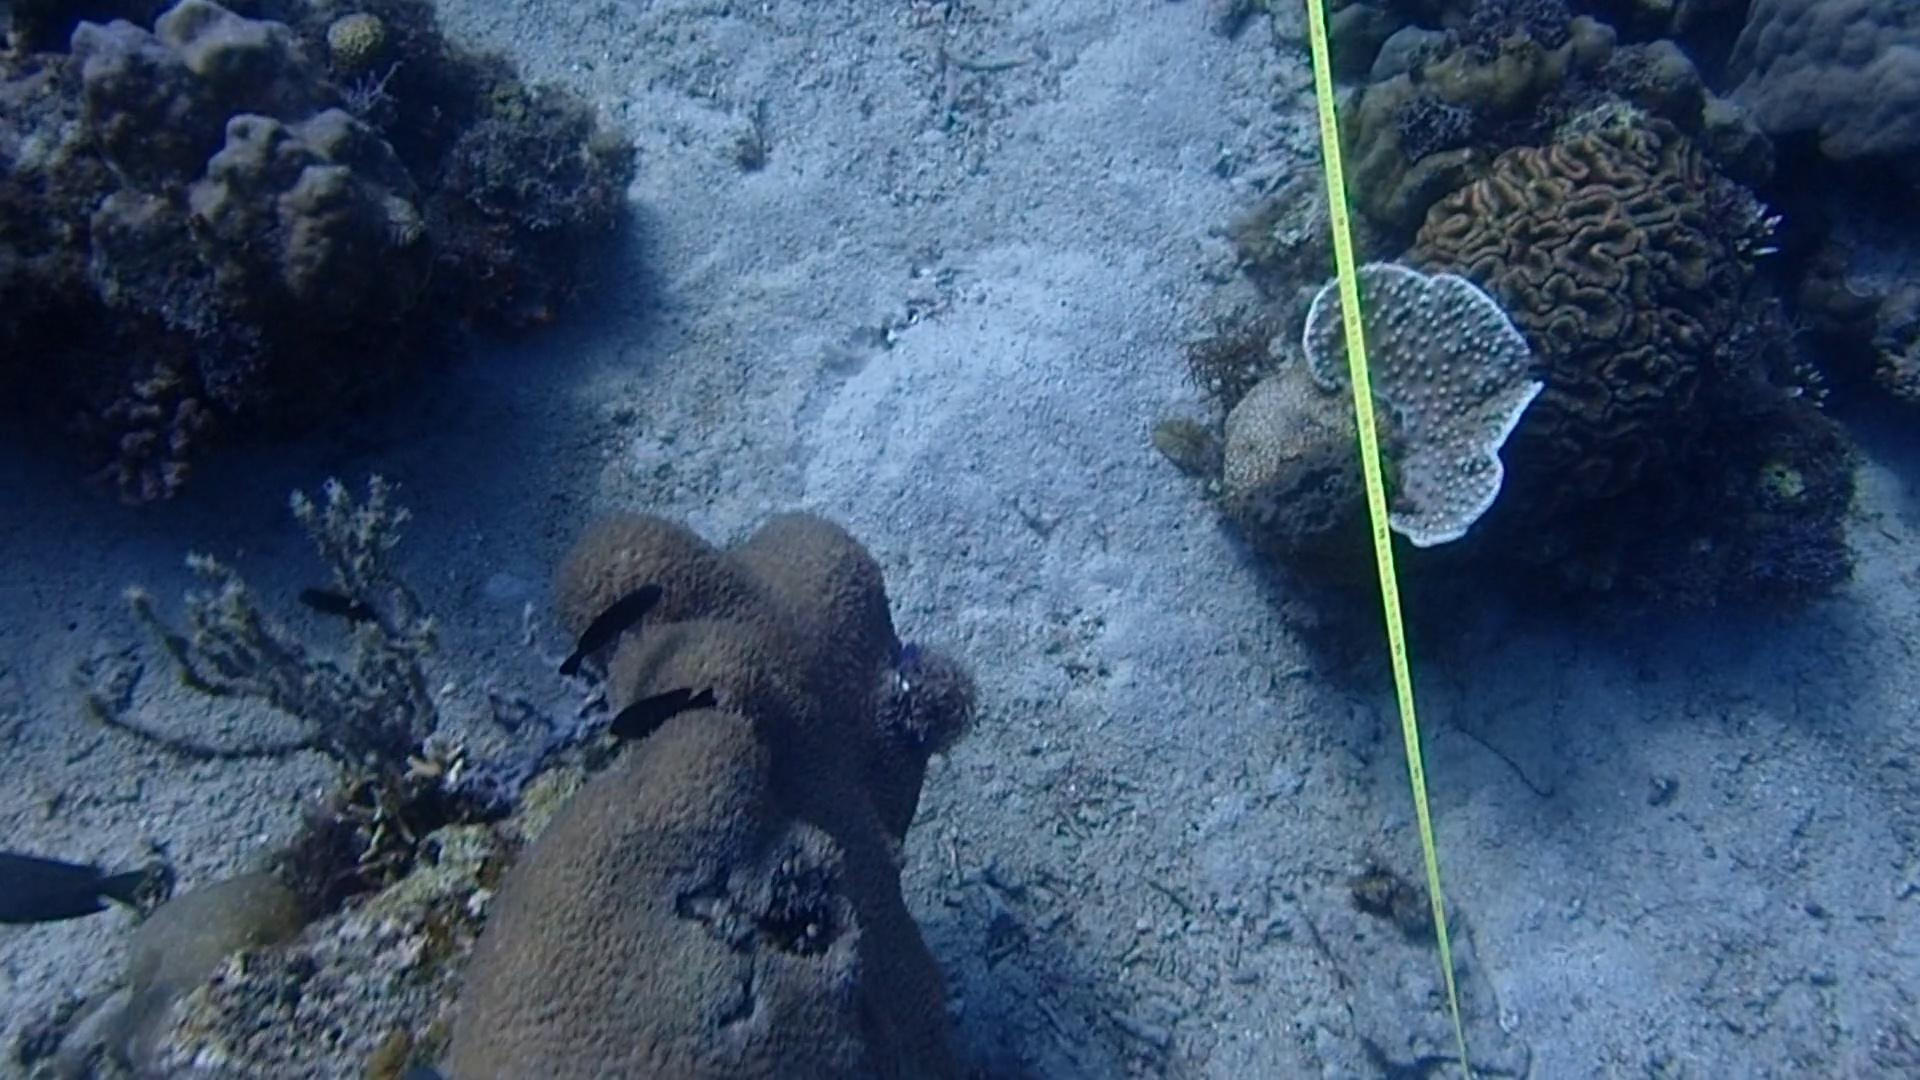Dark Fish: (574, 669, 731, 736), (562, 571, 661, 676), (291, 574, 393, 646)
